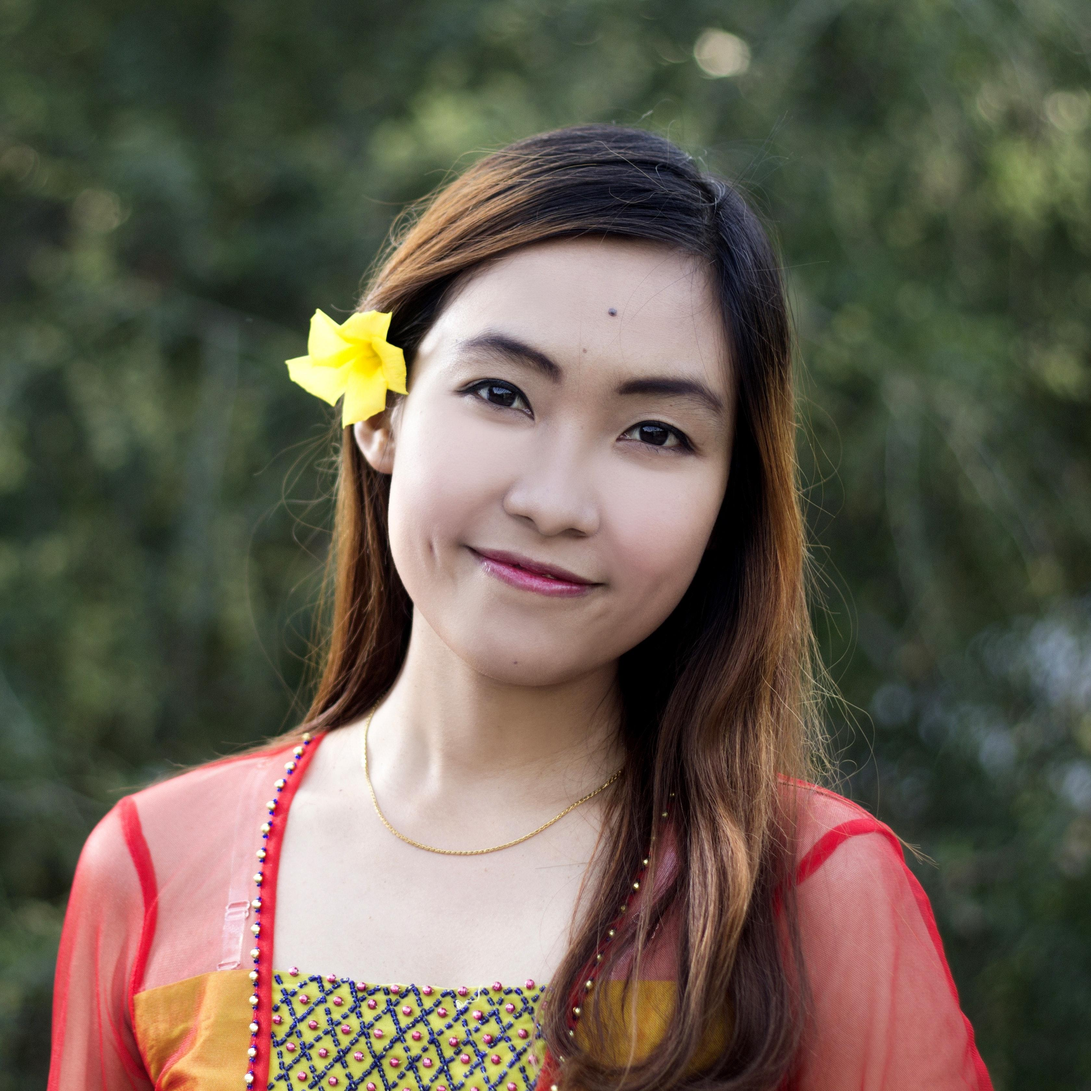Eyes: (451, 363, 542, 425), (610, 406, 701, 465)
